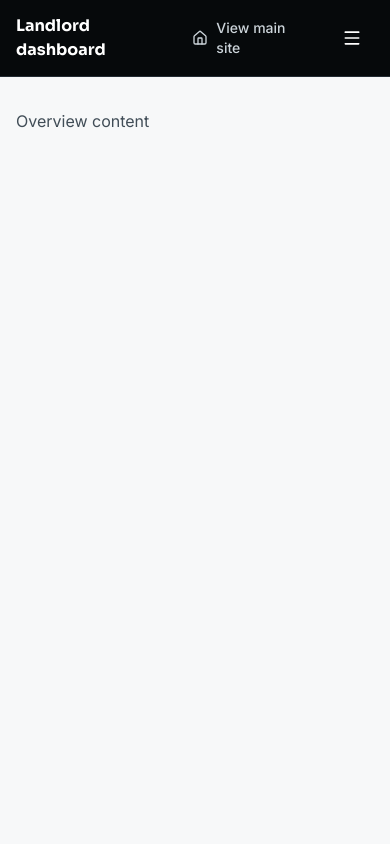
DashboardShell mobile drawer › keeps the nav panel on a higher layer than the backdrop
Click the button named "open navigation menu" at (352, 38), box [330,22,374,54]
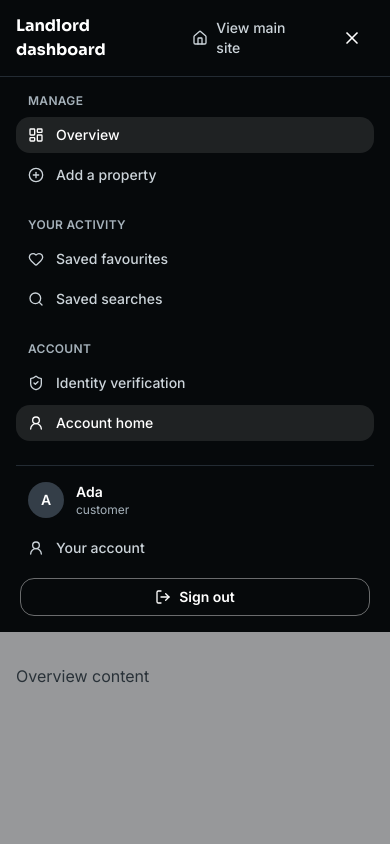
expect the element with id "dashboard-sidebar" is shown: met
